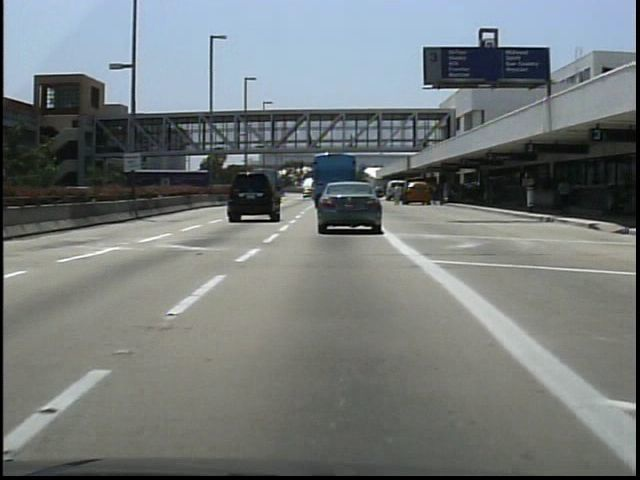person: (555, 173, 575, 217), (424, 179, 441, 210), (391, 181, 408, 209), (345, 132, 358, 154), (305, 131, 318, 151)
